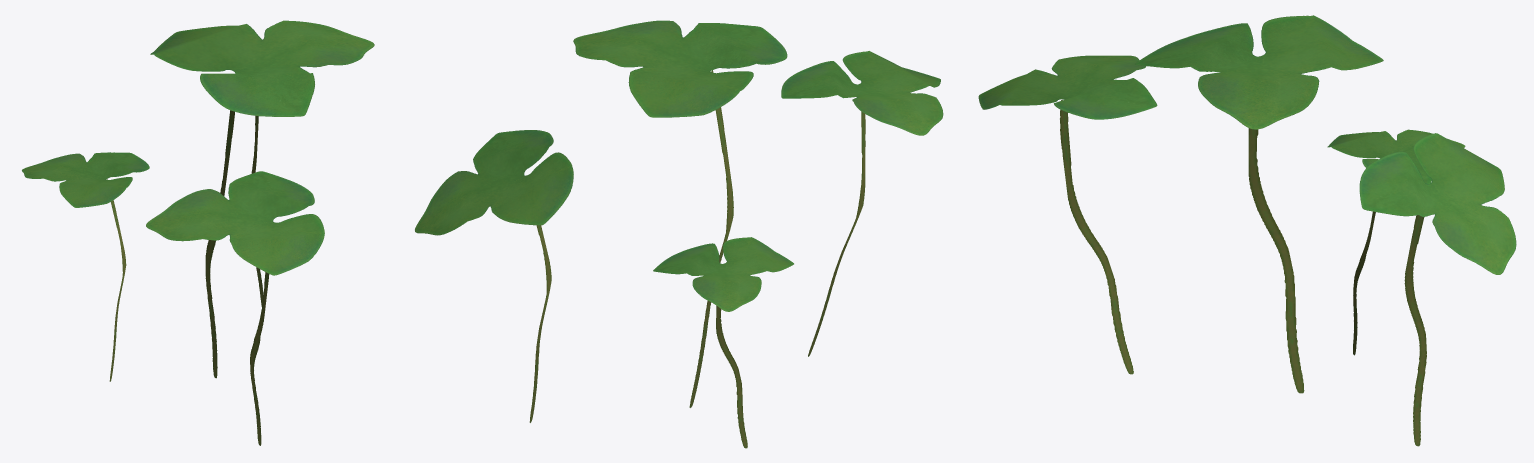
The model's file is SM_Plant_06.fbx.
3 renders of one model, left to right at view 1: azimuth 30°, elevation 25°; view 2: azimuth 150°, elevation 25°; view 3: azimuth 270°, elevation 25°, orthographic. The views are drawn at different scales.
Visible parts, largest first — view 1: SM_Plant_06_LOD0; view 2: SM_Plant_06_LOD0; view 3: SM_Plant_06_LOD0.
Part boxes in pixels (x1,y1,x2,y2): SM_Plant_06_LOD0: (22, 20, 374, 445); SM_Plant_06_LOD0: (415, 20, 943, 448); SM_Plant_06_LOD0: (978, 15, 1516, 446).
Bounding box in the file's own units: 19.35 × 24.9 × 17.87.
